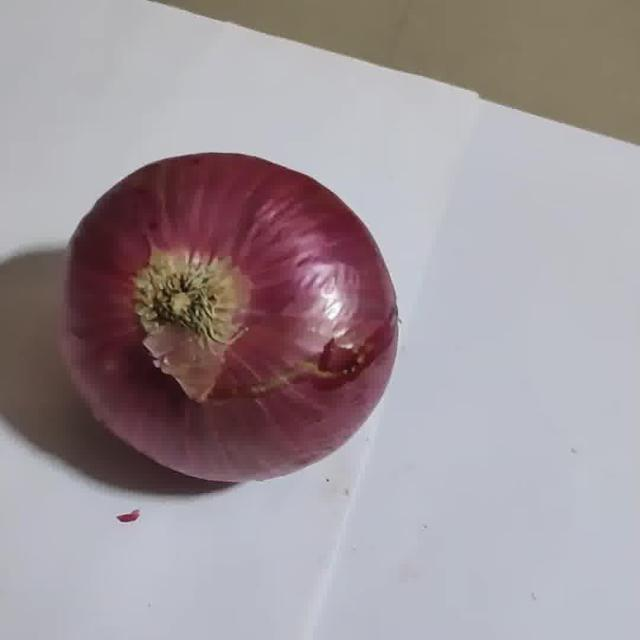Onion: (66, 153, 398, 484)
